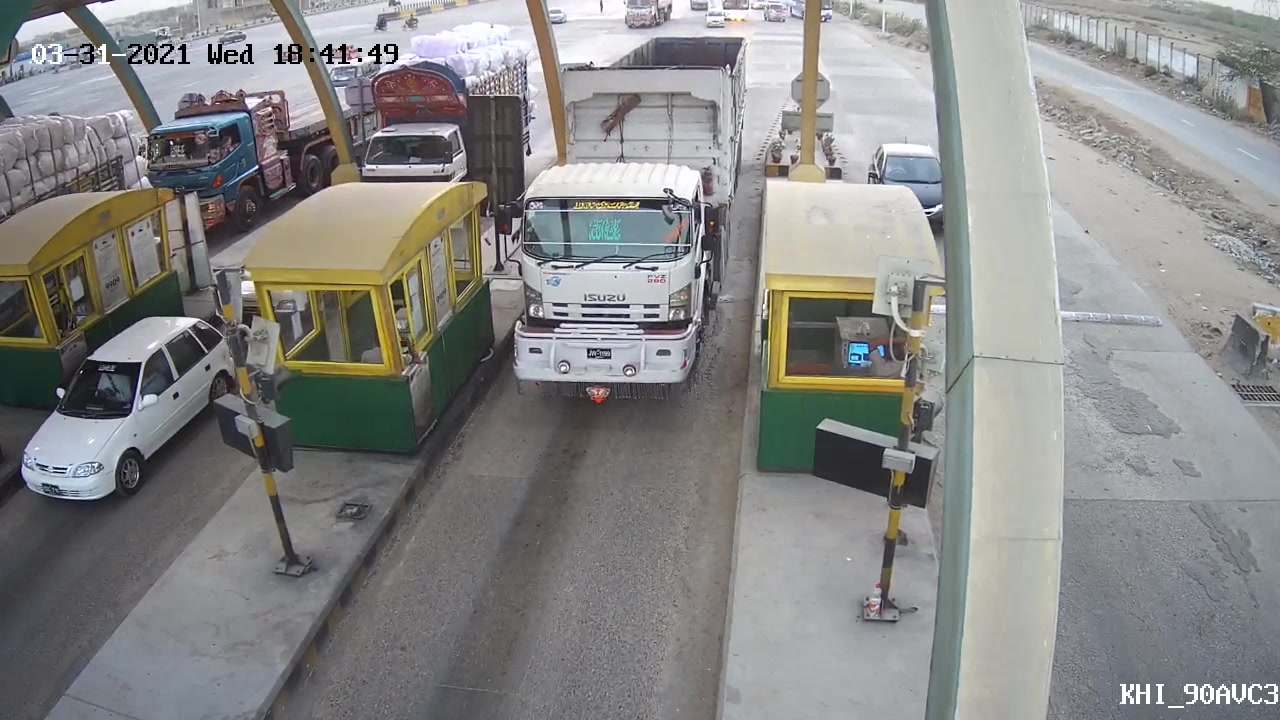F6: (499, 29, 754, 405)
